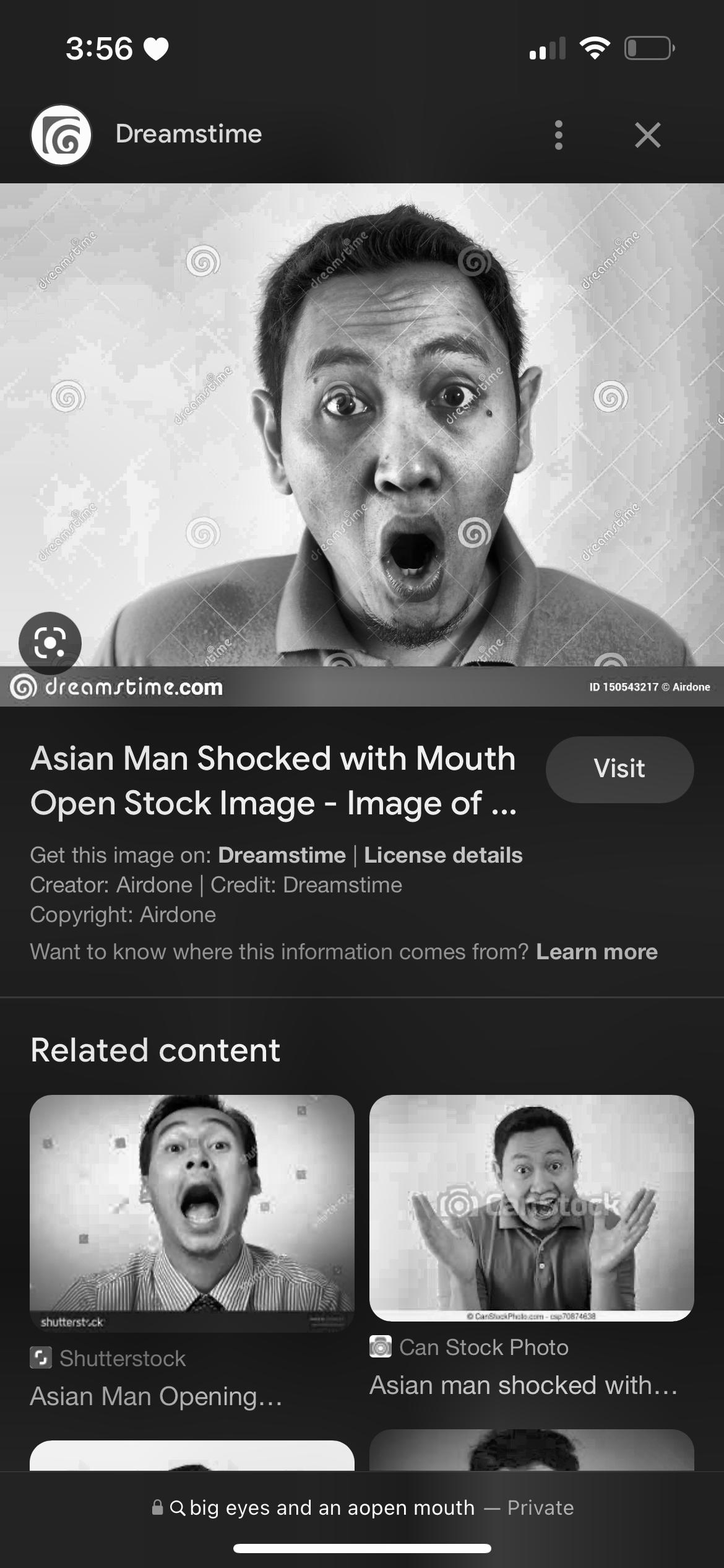surprised: (301, 285, 517, 635)
